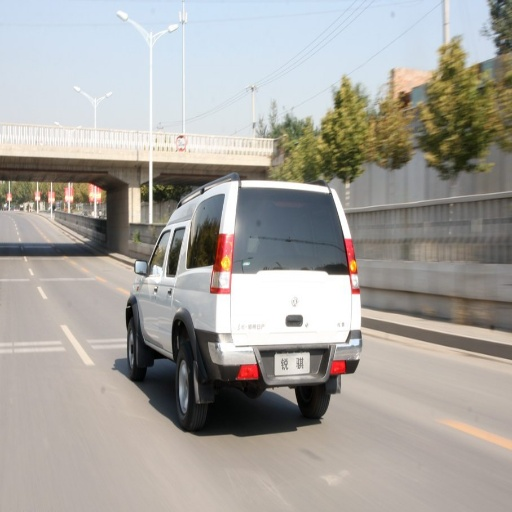back_bumper: (213, 342, 356, 382)
back_glass: (243, 192, 341, 266)
trunk: (195, 255, 351, 365)
